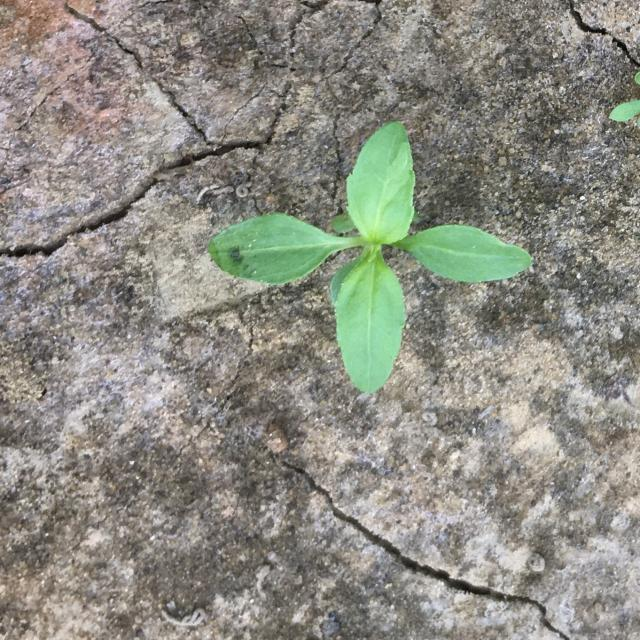Eclipta: (207, 120, 532, 394)
